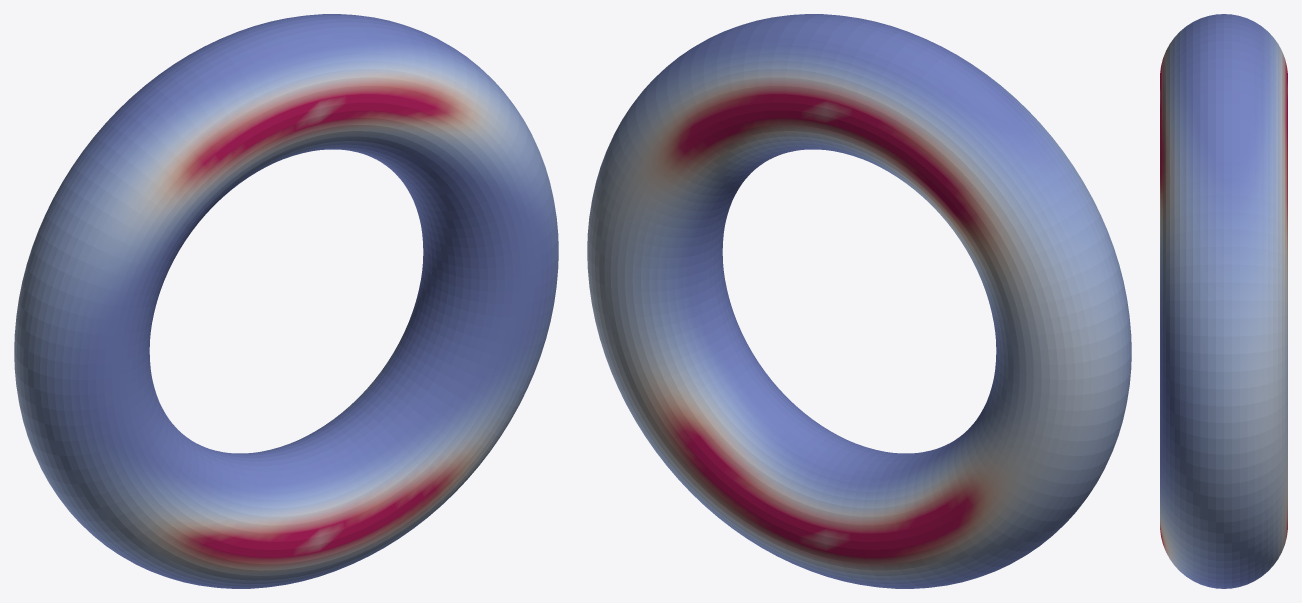
3 renders of one model, left to right at view 1: azimuth 30°, elevation 25°; view 2: azimuth 150°, elevation 25°; view 3: azimuth 270°, elevation 25°, orthographic. The views are drawn at different scales.
Visible parts, largest first — view 1: world; view 2: world; view 3: world.
Boxes of the visible parts, bbox=[...] form: world: bbox=[14, 14, 558, 588]; world: bbox=[587, 14, 1131, 588]; world: bbox=[1160, 14, 1287, 588].
Size of the model in its own units: 19.73 by 19.73 by 4.39.
